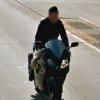Motorcycle: (26, 35, 76, 100)
